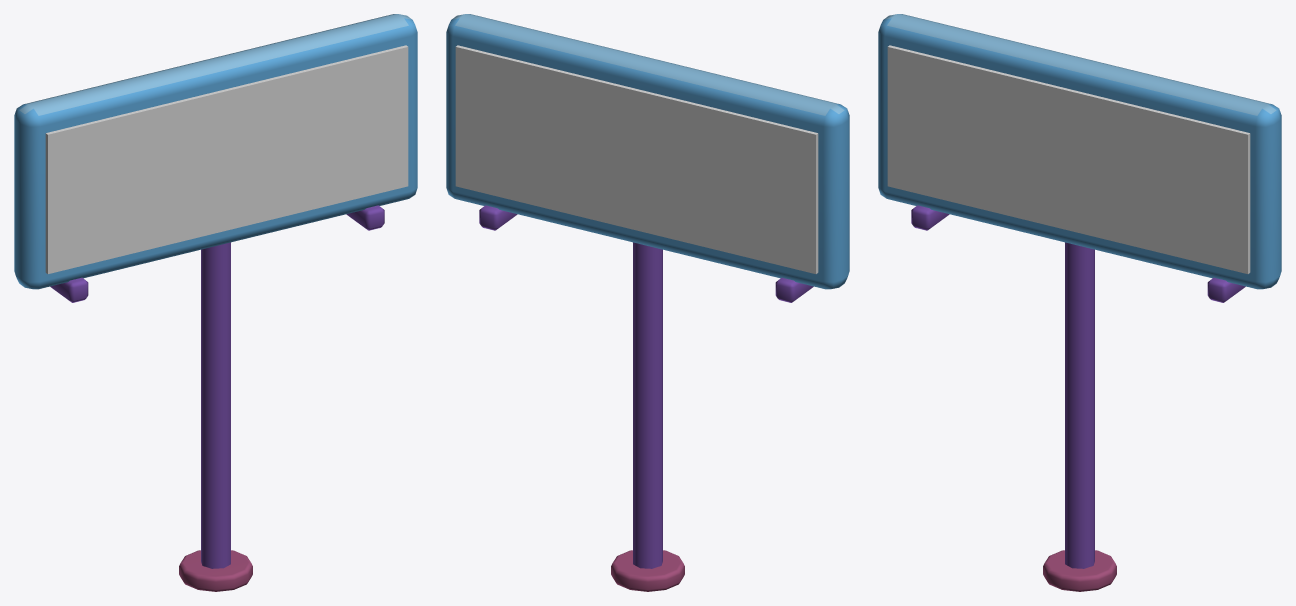
File: block-sign.glb
3 views of the same model, side by side, from view 1: azimuth 30°, elevation 25°; view 2: azimuth 150°, elevation 25°; view 3: azimuth 330°, elevation 25° (orthographic).
Parts seen in each view (by area): view 1: block-sign; view 2: block-sign; view 3: block-sign.
Part boxes in pixels (box(x1,y1,x2,y2)): block-sign: box(14, 14, 417, 591); block-sign: box(446, 14, 849, 591); block-sign: box(878, 14, 1281, 591).
Bounding box in the file's own units: 1.6 × 2 × 0.26.
